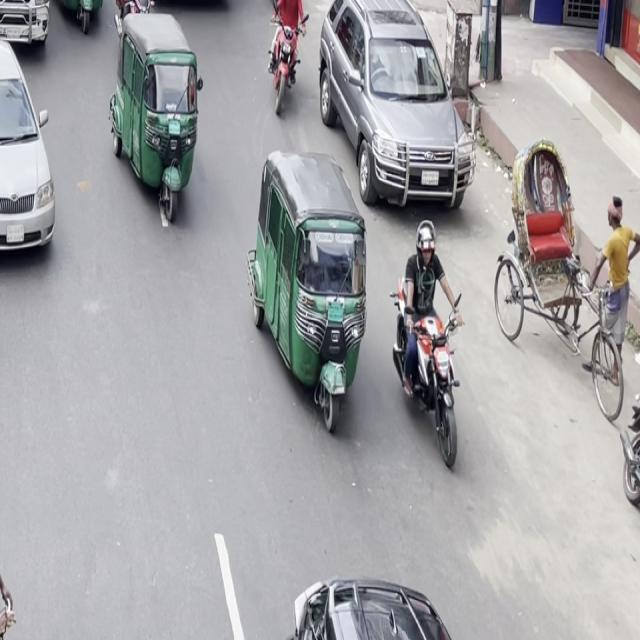bus: (119, 0, 247, 5)
car: (314, 0, 479, 221), (286, 533, 456, 640), (0, 20, 69, 270), (0, 0, 55, 59)
motorbike: (388, 215, 476, 471), (262, 0, 311, 121), (110, 0, 159, 46), (258, 0, 300, 9)
rickshaw: (244, 136, 382, 436), (105, 0, 213, 233), (48, 0, 118, 39)
